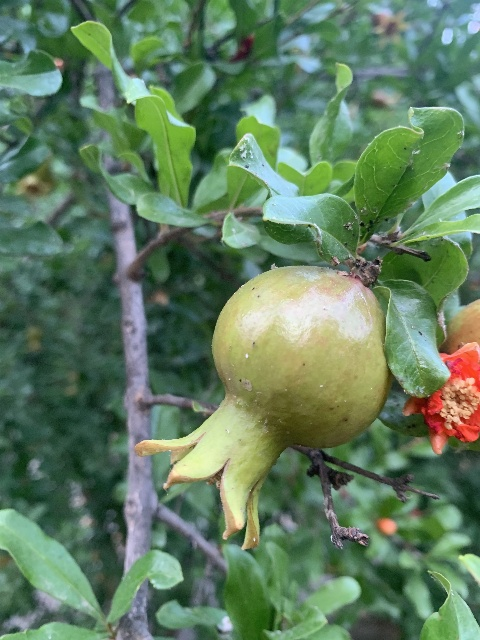bud: (375, 517, 397, 536)
early-fruit: (371, 9, 410, 49)
flower: (401, 341, 480, 453)
mid-growth: (132, 261, 393, 551)
